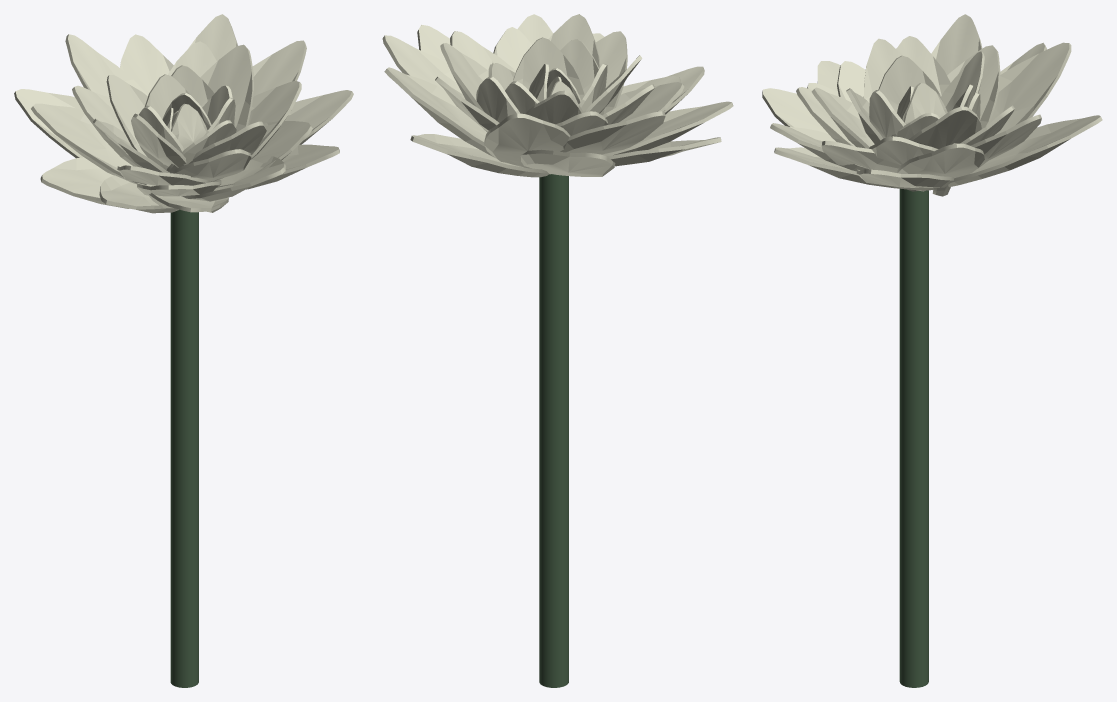
The model's file is chrysanthemum.obj.
The picture shows the model from 3 angles, left to right: view 1: azimuth 30°, elevation 25°; view 2: azimuth 150°, elevation 25°; view 3: azimuth 270°, elevation 25°; orthographic projection. The views are drawn at different scales.
Parts seen in each view (by area): view 1: head chrysanthemum, chrysanthemum stem1; view 2: head chrysanthemum, chrysanthemum stem1; view 3: head chrysanthemum, chrysanthemum stem1.
Part boxes in pixels (x1,y1,x2,y2): head chrysanthemum: (14, 14, 353, 213); chrysanthemum stem1: (170, 209, 198, 687); head chrysanthemum: (382, 14, 733, 177); chrysanthemum stem1: (539, 174, 568, 687); head chrysanthemum: (762, 14, 1102, 196); chrysanthemum stem1: (899, 188, 928, 687).
Bounding box in the file's own units: 1.95 × 3.75 × 1.87.
